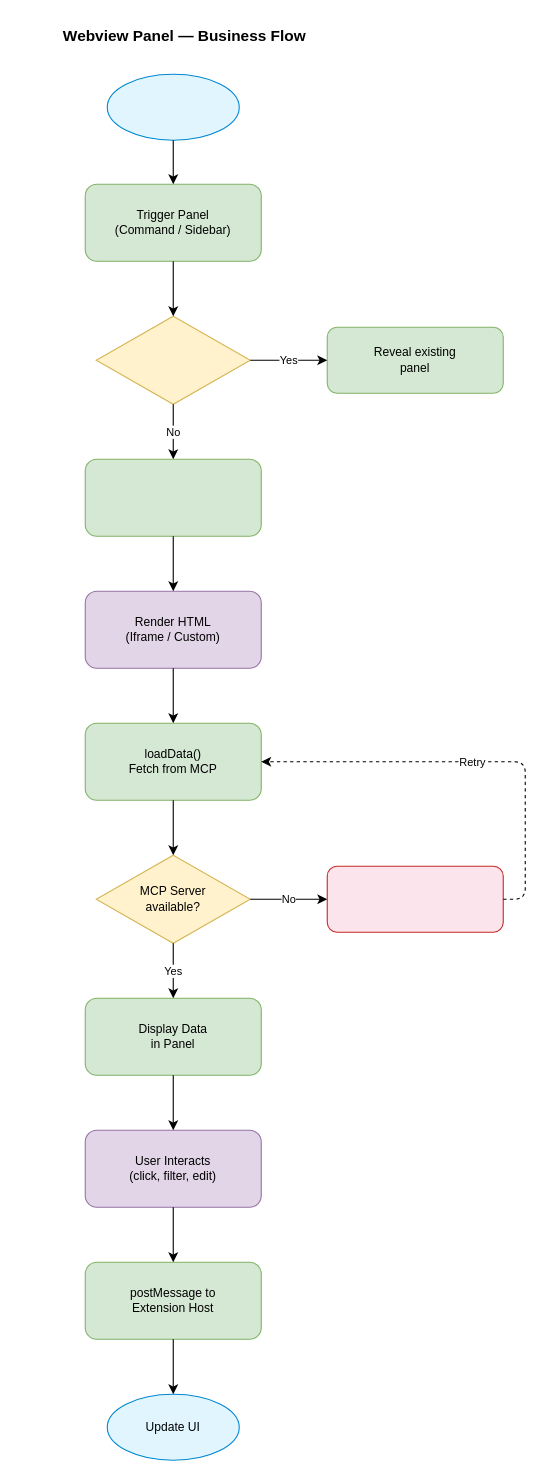
This 553x1480 diagram has some shape labels left out. Here are the shapes that lost their labels. From the top down, the centre of each, then its label:
At [172,106]: "User opens VS Code".
At [172,359]: "Panel already open?".
At [172,497]: "Create panel via Factory".
At [414,898]: "Show Error Overlay + Retry".
